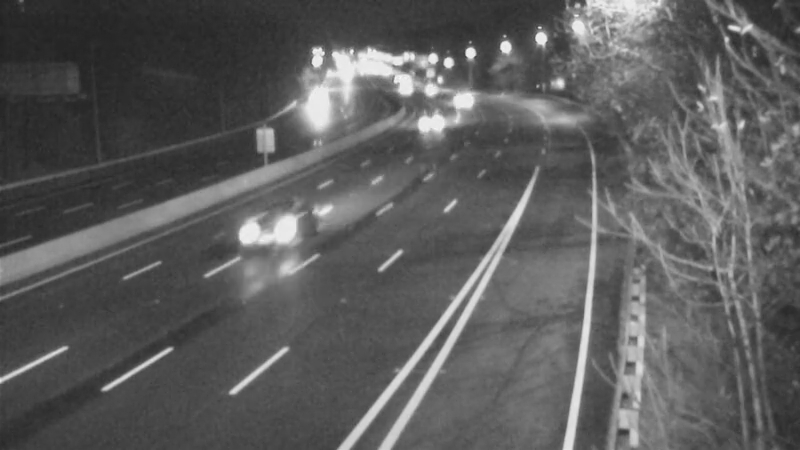vehicle: (229, 182, 309, 262), (436, 72, 486, 122), (402, 97, 452, 147), (288, 78, 338, 128)
